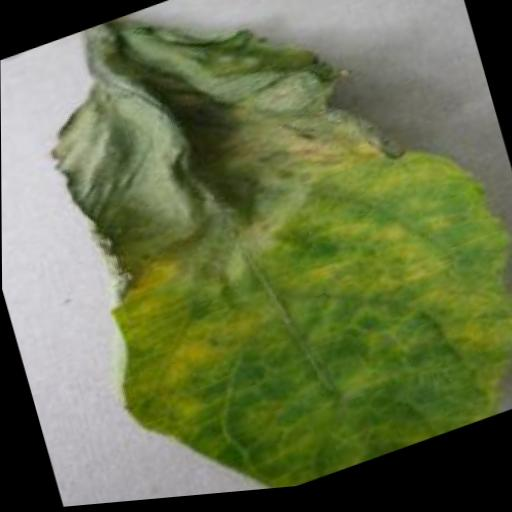Late Blight: (14, 0, 512, 511)
